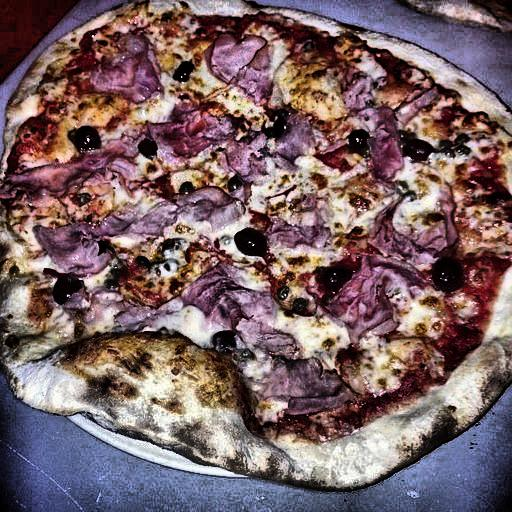pizza: (12, 18, 512, 443)
